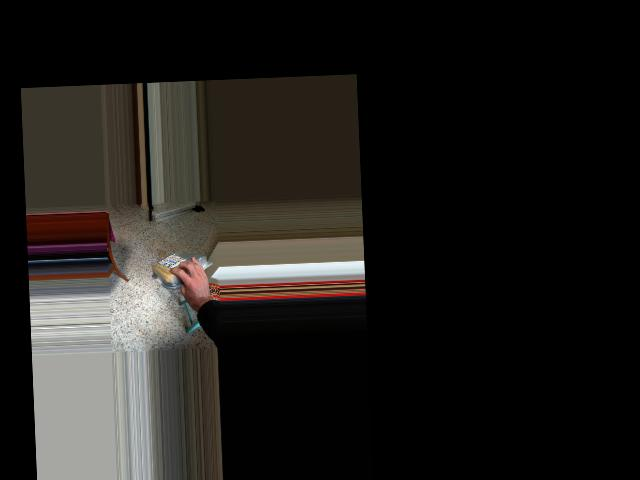cheese: (151, 251, 213, 283)
